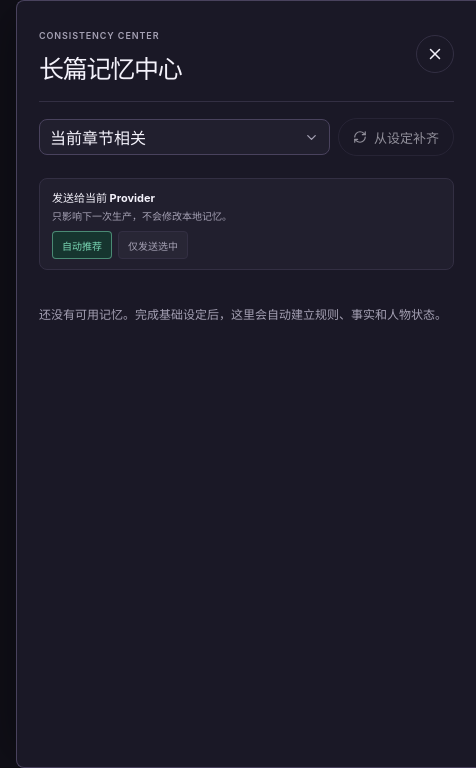
MemoryPanel › shows the latest revision source instead of inferring it from candidate id
Click the dropdown named "记忆类型": (98, 138) [39,119,330,155]
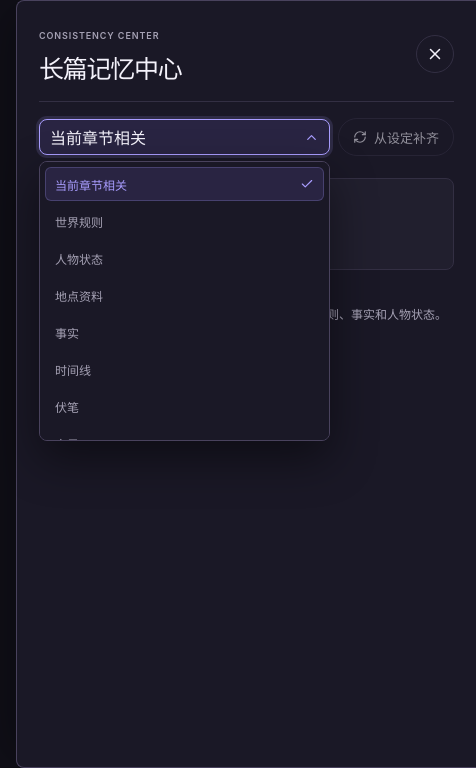
Click the option "世界规则": (79, 222) [45,204,324,238]
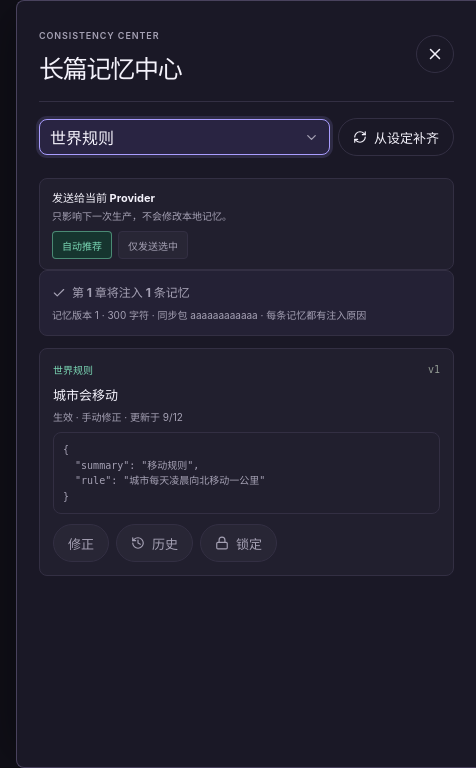
Expected: the text "生效 · 手动修正 · 更新于 9/12" is shown, [53,411,183,423]
